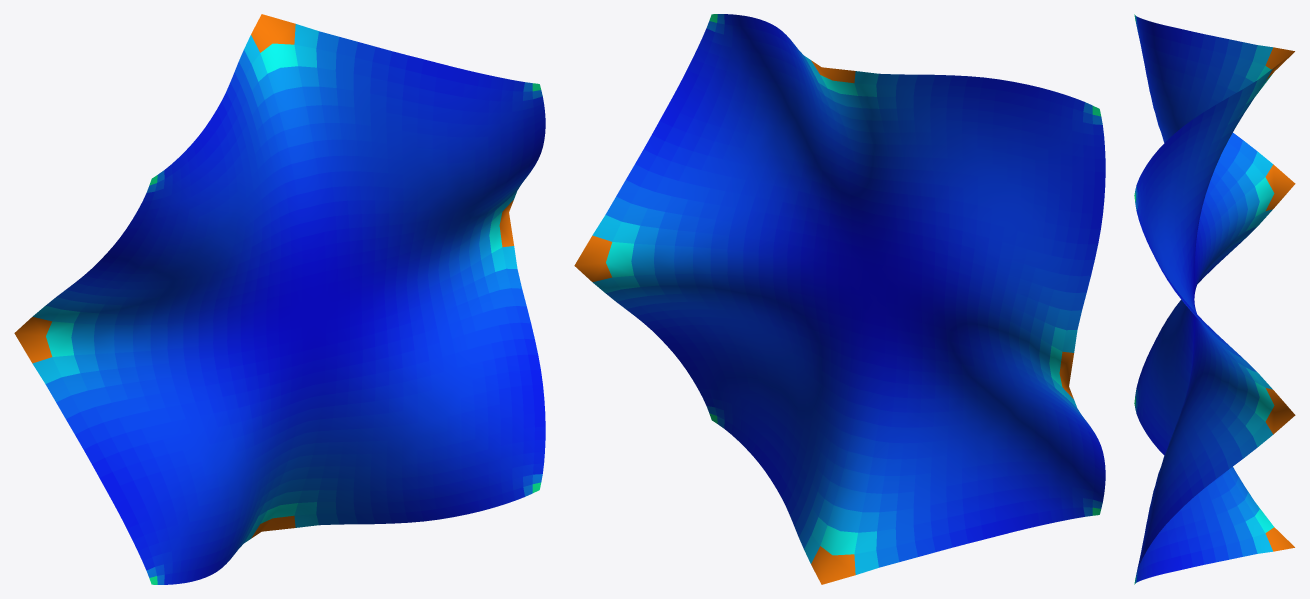
Rendered from shell_opt.obj.
3 views of the same model, side by side, from view 1: azimuth 30°, elevation 25°; view 2: azimuth 150°, elevation 25°; view 3: azimuth 270°, elevation 25° (orthographic). The views are drawn at different scales.
Bounding box in the file's own units: 9.94 × 9.94 × 2.92.
